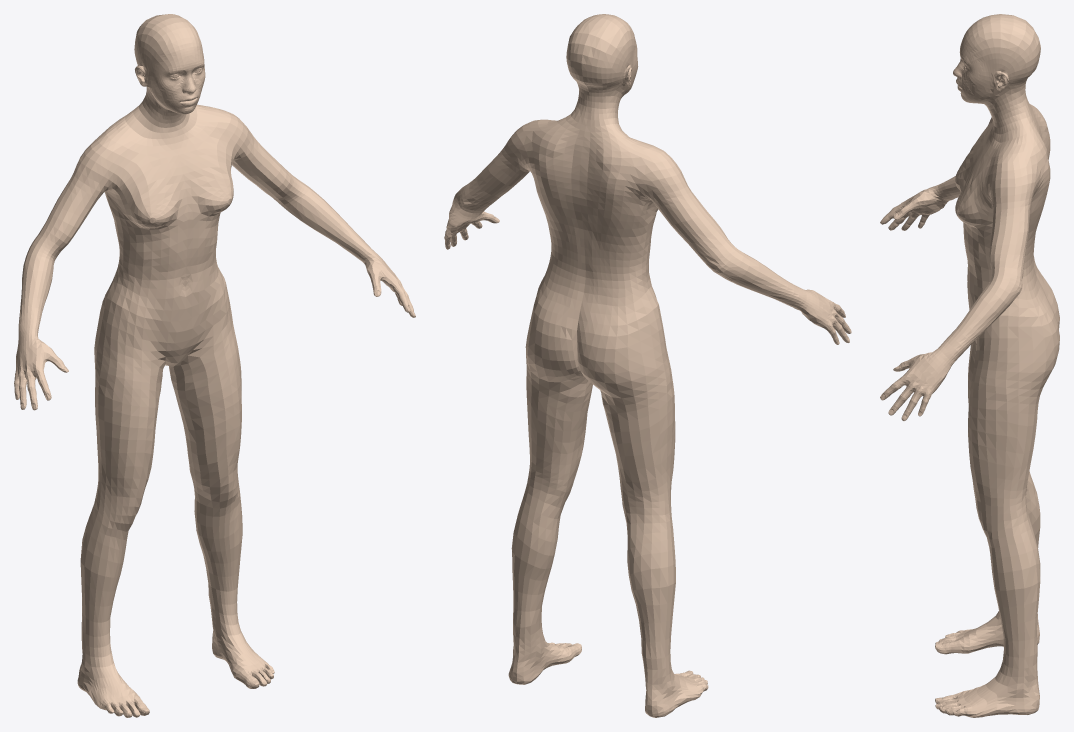
Rendered from female-adult-fit-strong.glb.
The picture shows the model from 3 angles, left to right: view 1: azimuth 30°, elevation 25°; view 2: azimuth 150°, elevation 25°; view 3: azimuth 270°, elevation 25°; orthographic projection.
Parts seen in each view (by area): view 1: world; view 2: world; view 3: world.
Boxes of the visible parts, <box> form: world: <box>14,14,415,717</box>; world: <box>444,14,851,717</box>; world: <box>880,14,1059,717</box>.
Bounding box in the file's own units: 1.12 × 1.81 × 0.4452.
